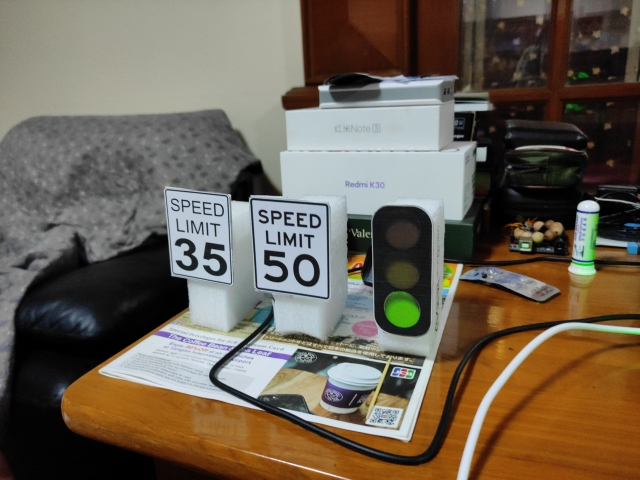Green Traffic Light: (371, 205, 432, 337)
Speed Limit 35: (163, 186, 234, 285)
Speed Limit 50: (248, 195, 332, 300)
